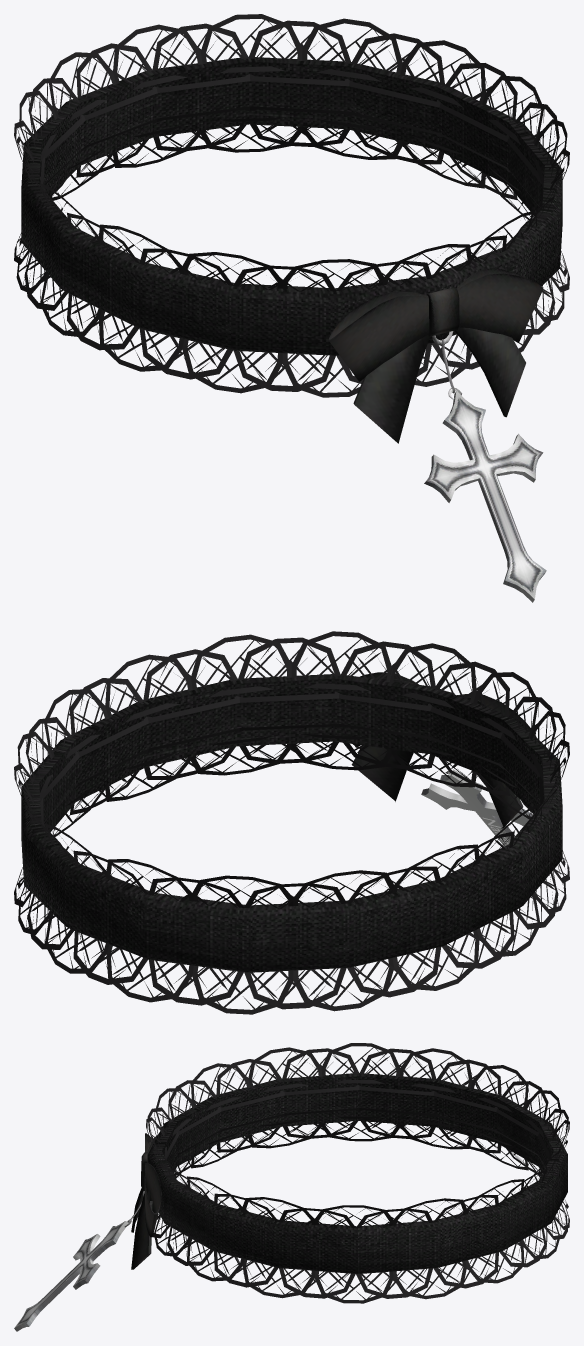
The model's file is Necklace01.glb.
The picture shows the model from 3 angles, top to bottom: view 1: azimuth 30°, elevation 25°; view 2: azimuth 150°, elevation 25°; view 3: azimuth 270°, elevation 25°; orthographic projection. The views are drawn at different scales.
Parts seen in each view (by area): view 1: nob01, nbi03, topGrid, Ribbon, bottomGrid, cross, nib04, nob02, nob04, nob03, nbi02, Object_2.110; view 2: nob04, nbi02, topGrid, bottomGrid, nob03, nbi01, nob01, Ribbon, nob02, nbi03, Object_2.237, Object_2.200; view 3: nob03, topGrid, nob02, bottomGrid, nbi01, nib04, cross, Ribbon, nob04, nob01, Object_2.138, Object_2.109.
Boxes of the visible parts, x1=… form: nob01: x1=60, y1=228, x2=439, y2=355; nbi03: x1=154, y1=61, x2=508, y2=184; topGrid: x1=14, y1=14, x2=569, y2=291; Ribbon: x1=329, y1=273, x2=543, y2=443; bottomGrid: x1=14, y1=106, x2=569, y2=397; cross: x1=426, y1=391, x2=546, y2=599; nib04: x1=39, y1=74, x2=154, y2=195; nob02: x1=431, y1=121, x2=562, y2=340; nob04: x1=21, y1=70, x2=153, y2=287; nob03: x1=151, y1=56, x2=516, y2=121; nbi02: x1=508, y1=122, x2=544, y2=215; Object_2.110: x1=329, y1=291, x2=428, y2=339; nob04: x1=144, y1=844, x2=523, y2=972; nbi02: x1=76, y1=678, x2=429, y2=801; topGrid: x1=14, y1=631, x2=569, y2=908; bottomGrid: x1=14, y1=723, x2=569, y2=1014; nob03: x1=21, y1=737, x2=150, y2=959; nbi01: x1=429, y1=691, x2=544, y2=812; nob01: x1=430, y1=688, x2=562, y2=905; Ribbon: x1=352, y1=672, x2=534, y2=826; nob02: x1=71, y1=674, x2=432, y2=738; nbi03: x1=39, y1=739, x2=75, y2=832; Object_2.237: x1=421, y1=775, x2=528, y2=846; Object_2.200: x1=196, y1=640, x2=286, y2=687; nob03: x1=358, y1=1151, x2=567, y2=1273; topGrid: x1=146, y1=1043, x2=569, y2=1228; nob02: x1=147, y1=1151, x2=357, y2=1273; bottomGrid: x1=152, y1=1108, x2=569, y2=1303; nbi01: x1=162, y1=1076, x2=357, y2=1172; nib04: x1=358, y1=1076, x2=553, y2=1170; cross: x1=14, y1=1221, x2=124, y2=1327; Ribbon: x1=131, y1=1134, x2=154, y2=1269; nob04: x1=358, y1=1073, x2=567, y2=1154; nob01: x1=148, y1=1073, x2=357, y2=1154; Object_2.138: x1=248, y1=1047, x2=322, y2=1092; Object_2.109: x1=145, y1=1163, x2=160, y2=1213.
Bounding box in the file's own units: 0.5041 × 0.3 × 0.7294.
3 materials, 3 textured.
